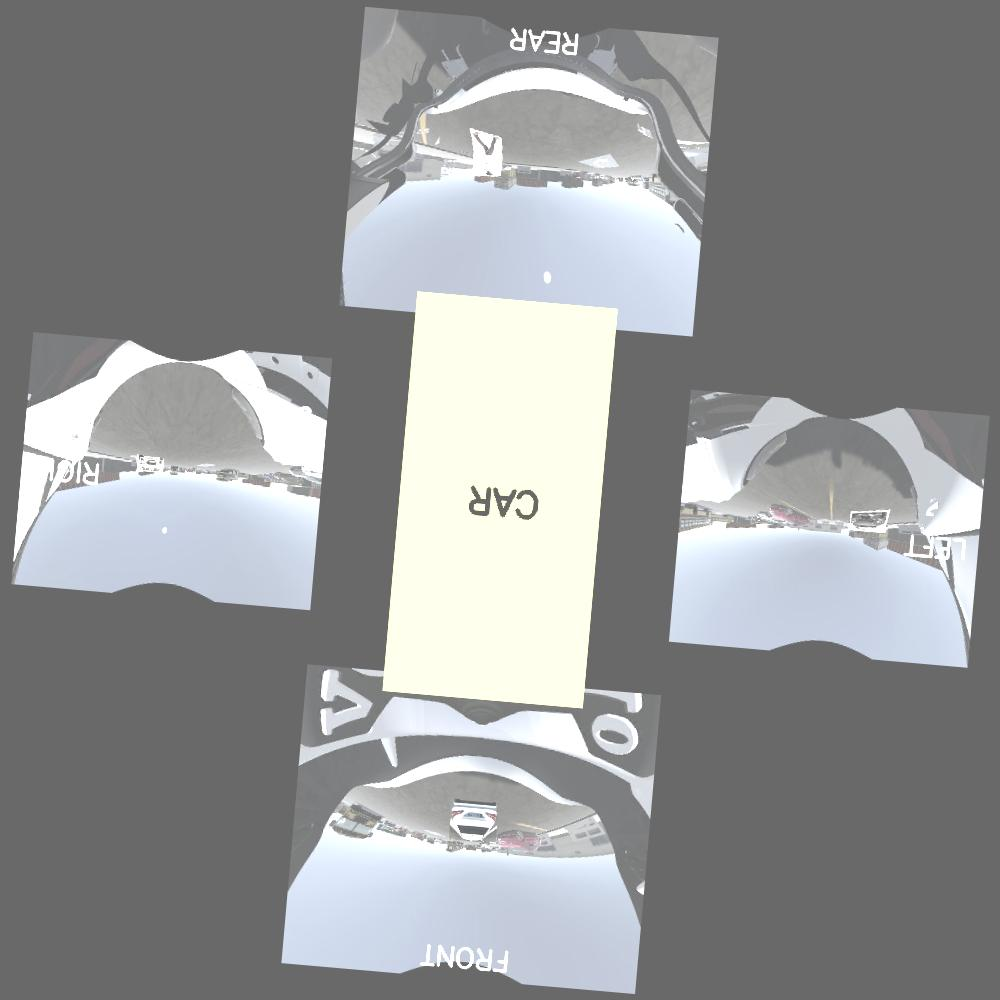Car: (449, 801, 499, 843), (848, 508, 888, 532), (133, 452, 166, 474)
objects: (468, 129, 504, 178)
